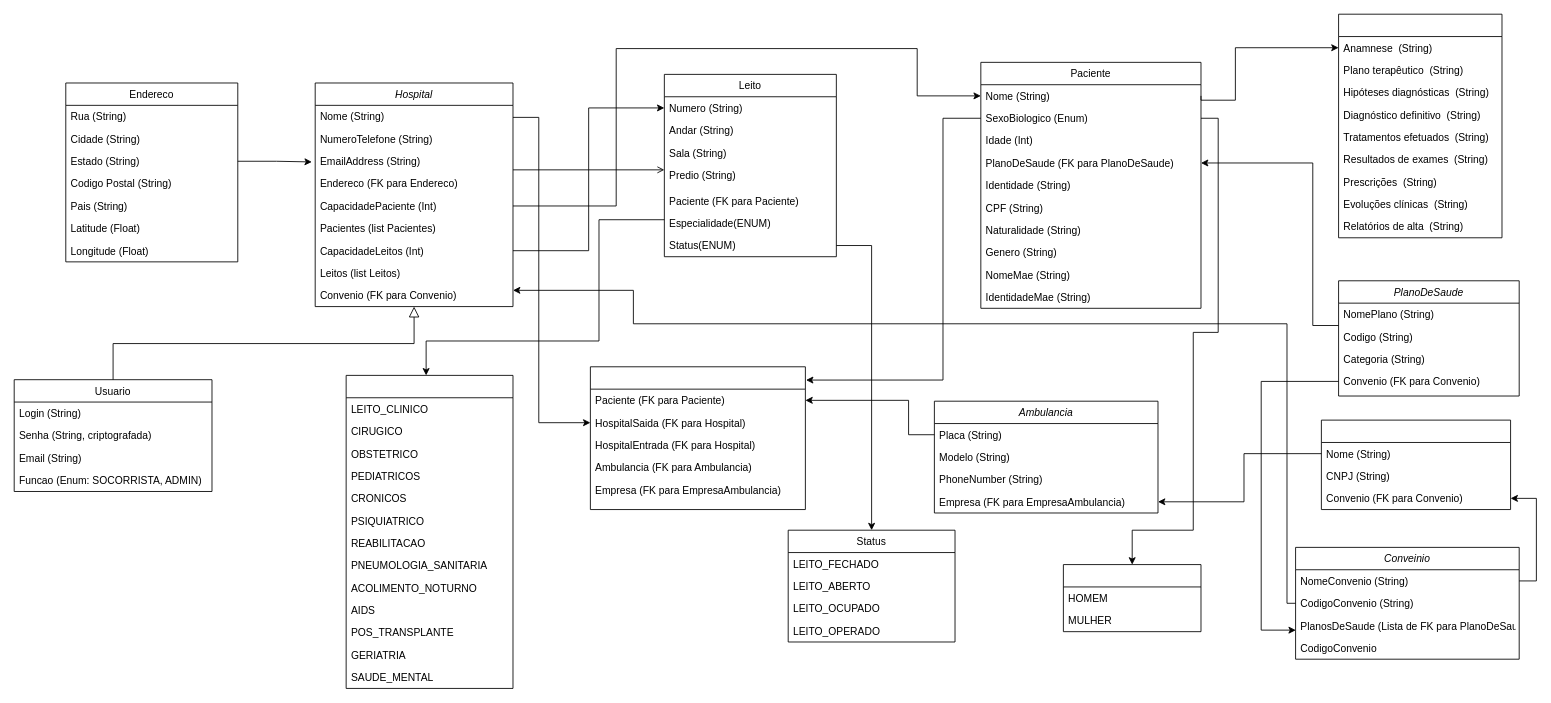
The diagram is 1551 pixels wide and 703 high, and some of its shapes have lost their labels. The shapes that lost their labels are listed below. From the top down, each one's box as (x1, y1, x2, y2) in pixels, then its label:
(1338, 13, 1502, 238): Prontuario
(590, 366, 805, 510): TransferenciaPaciente
(1321, 419, 1511, 510): EmpresaAmbulancia
(345, 375, 513, 688): Especialidade
(1063, 564, 1201, 632): SexoBiologico
